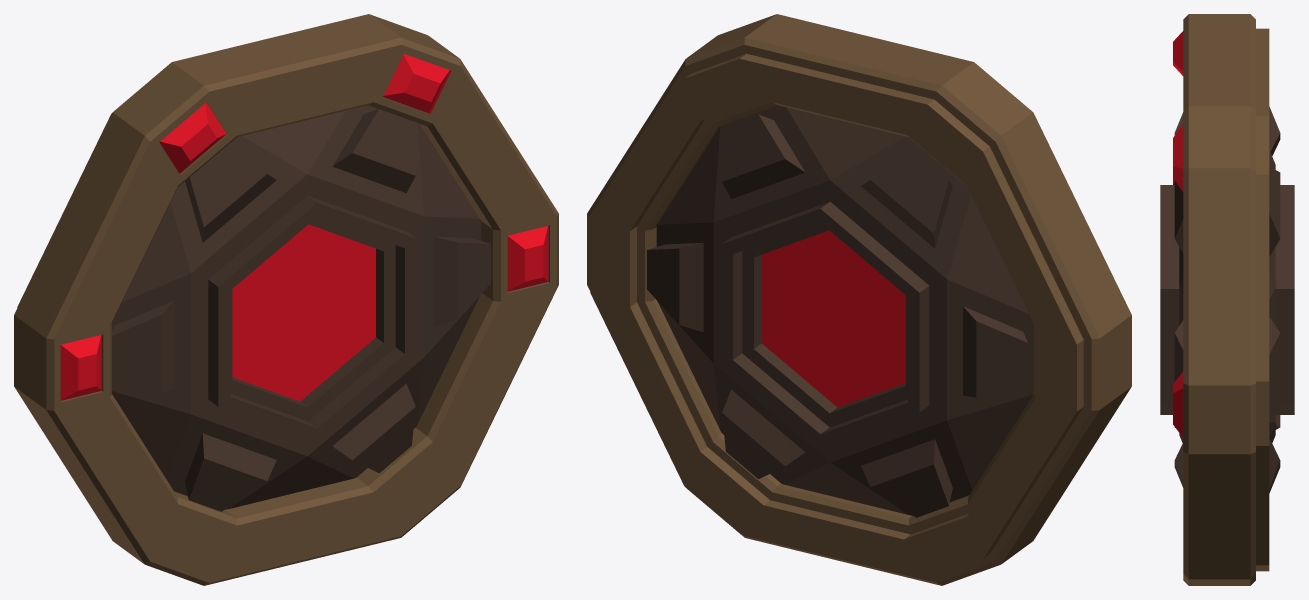
File: Door.fbx
3 views of the same model, side by side, from view 1: azimuth 30°, elevation 25°; view 2: azimuth 150°, elevation 25°; view 3: azimuth 270°, elevation 25° (orthographic). The views are drawn at different scales.
Parts seen in each view (by area): view 1: OutDoor, Door; view 2: Door, OutDoor; view 3: OutDoor, Door.
Part boxes in pixels (left/top/right/bottom): OutDoor: left=14, top=14, right=558, bottom=585; Door: left=112, top=105, right=490, bottom=511; Door: left=647, top=105, right=1033, bottom=517; OutDoor: left=587, top=14, right=1131, bottom=585; OutDoor: left=1173, top=14, right=1269, bottom=585; Door: left=1160, top=106, right=1294, bottom=493.
Size of the model in its own units: 420 by 392 by 99.22.
